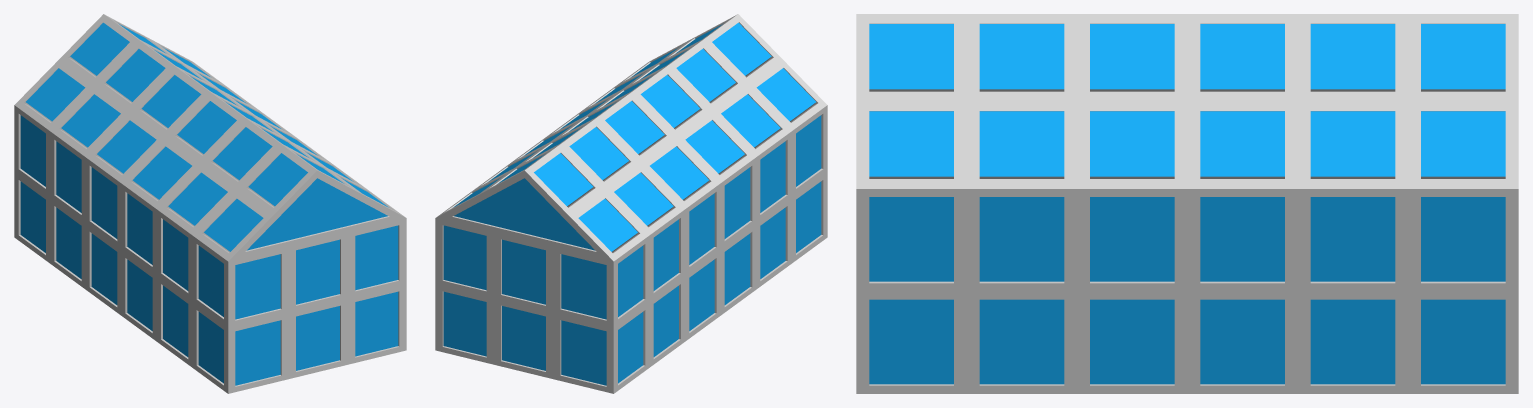
The model's file is szklarnia_marzec.fbx.
3 renders of one model, left to right at view 1: azimuth 30°, elevation 25°; view 2: azimuth 150°, elevation 25°; view 3: azimuth 270°, elevation 25°, orthographic. The views are drawn at different scales.
Visible parts, largest first — view 1: Cube; view 2: Cube; view 3: Cube.
Part boxes in pixels (x1=…): Cube: x1=14, y1=14, x2=406, y2=393; Cube: x1=435, y1=14, x2=827, y2=393; Cube: x1=856, y1=14, x2=1518, y2=393.
Bounding box in the file's own units: 200 × 216 × 415.
